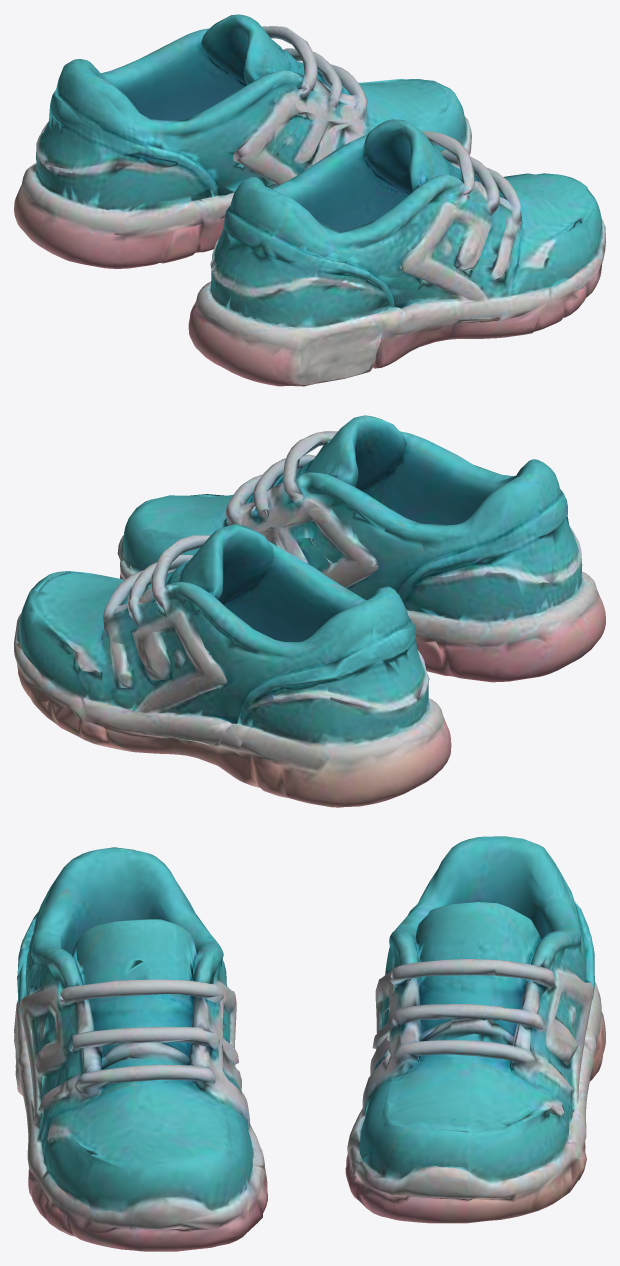
File: acc_shoes_racer_01.glb
3 renders of one model, top to bottom at view 1: azimuth 30°, elevation 25°; view 2: azimuth 150°, elevation 25°; view 3: azimuth 270°, elevation 25°, orthographic. The views are drawn at different scales.
Visible parts, largest first — view 1: acc_shoes_racer_01; view 2: acc_shoes_racer_01; view 3: acc_shoes_racer_01.
Boxes of the visible parts, x1,y1,x2,y2 form: acc_shoes_racer_01: (14, 14, 605, 386); acc_shoes_racer_01: (14, 415, 605, 807); acc_shoes_racer_01: (14, 836, 605, 1251).
Bounding box in the file's own units: 0.3481 × 0.1598 × 0.3482.
1 material, 1 textured.
